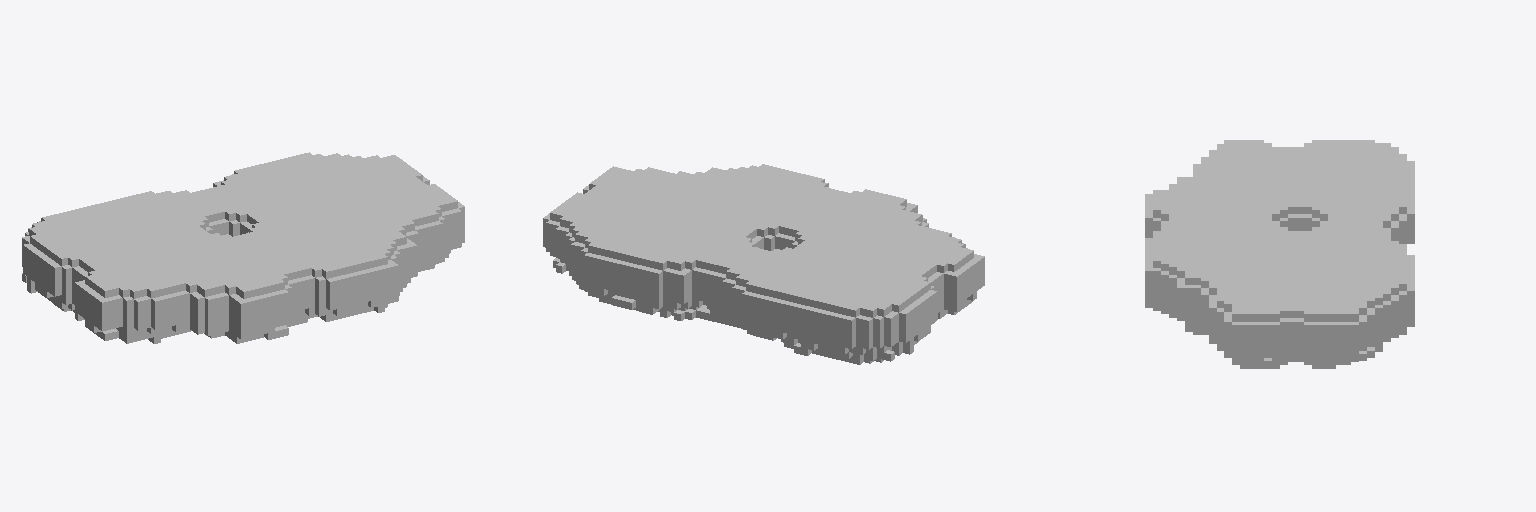
File: ground27.obj
The picture shows the model from 3 angles: view 1: azimuth 30°, elevation 25°; view 2: azimuth 150°, elevation 25°; view 3: azimuth 270°, elevation 25°; orthographic projection.
Parts seen in each view (by area): view 1: ObjObject.021; view 2: ObjObject.021; view 3: ObjObject.021.
Part boxes in pixels (x1,y1,x2,y2): ObjObject.021: (22,152,464,343); ObjObject.021: (543,164,984,364); ObjObject.021: (1145,140,1414,368).
Bounding box in the file's own units: 5.4 × 0.8 × 3.4.